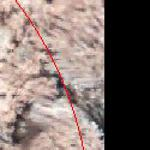alive: (8, 14, 99, 144)
